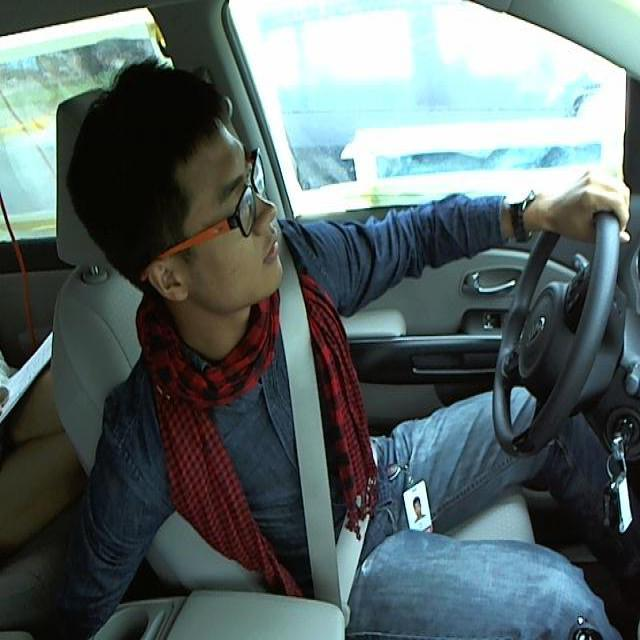seatbelt: (279, 272, 374, 609)
